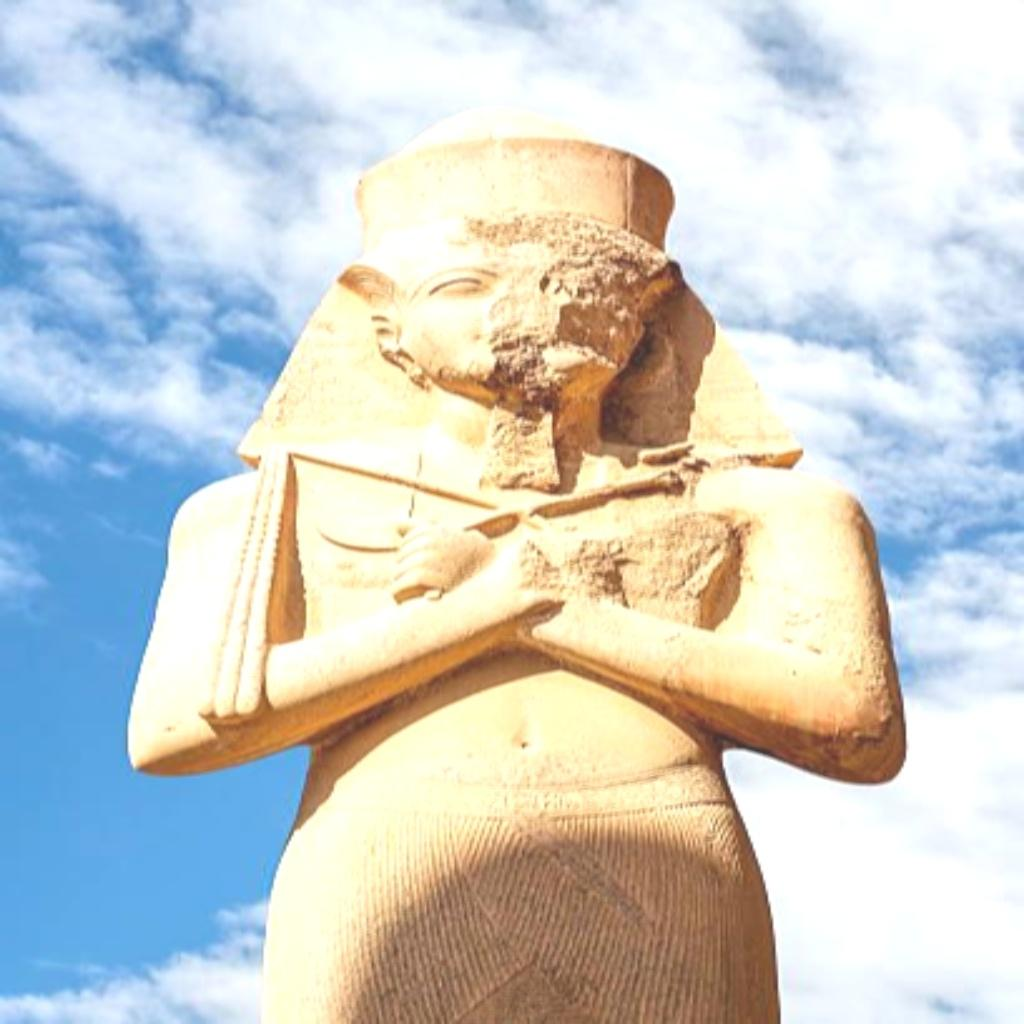Standing Statue of King Ramses II: (123, 104, 911, 1020)
